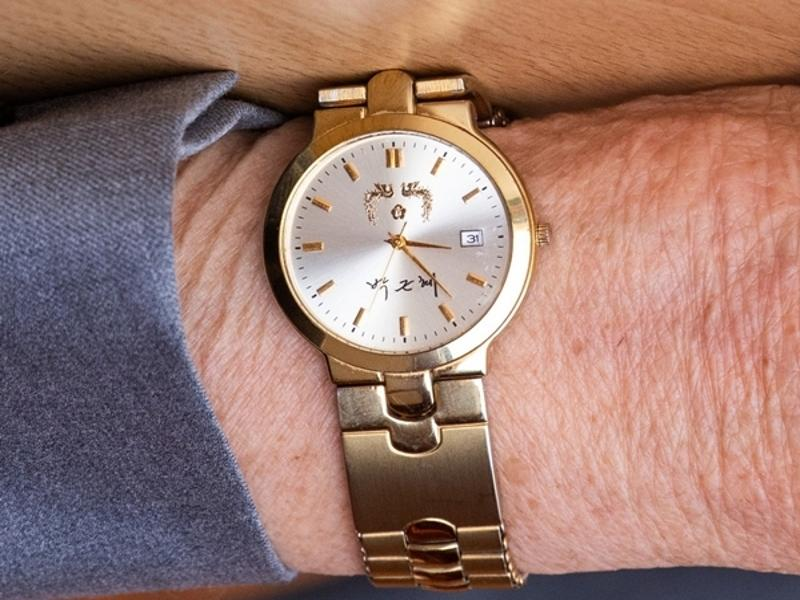watch: (261, 72, 550, 594)
